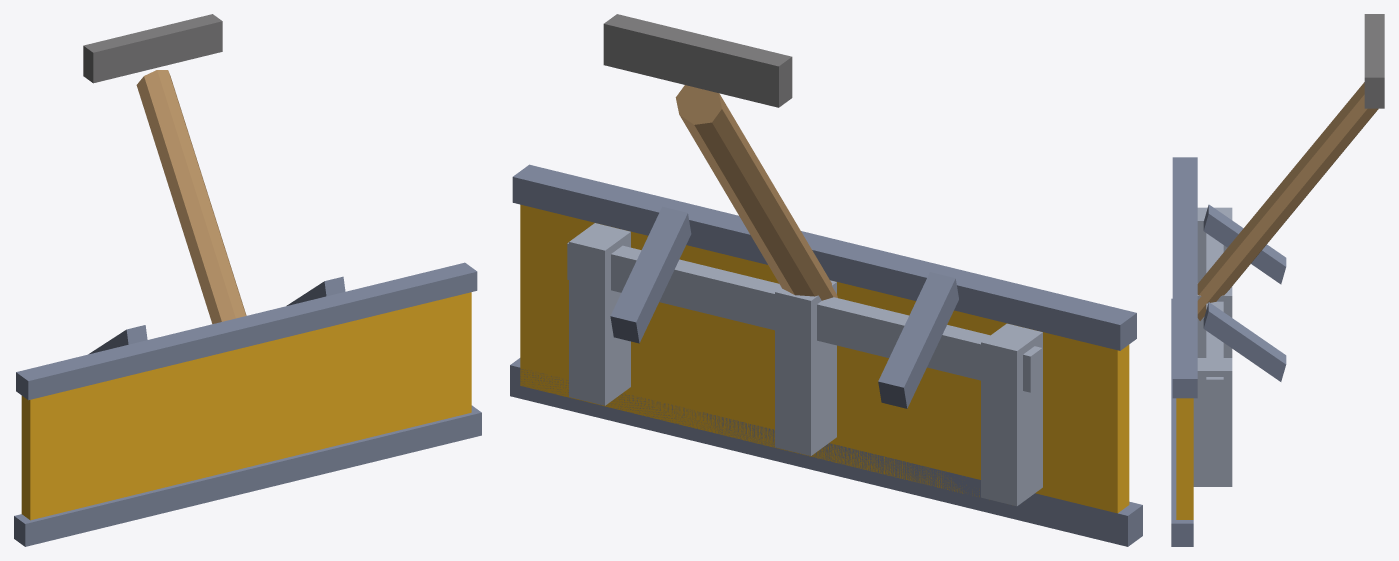
File: pusher.glb
3 views of the same model, side by side, from view 1: azimuth 30°, elevation 25°; view 2: azimuth 150°, elevation 25°; view 3: azimuth 270°, elevation 25° (orthographic). The views are drawn at different scales.
Visible parts, largest first — view 1: pusher; view 2: pusher; view 3: pusher.
Boxes of the visible parts, x1,y1,x2,y2 form: pusher: (14,14,481,546); pusher: (510,14,1142,546); pusher: (1171,14,1384,546).
Size of the model in its own units: 1.25 by 1 by 0.5.
